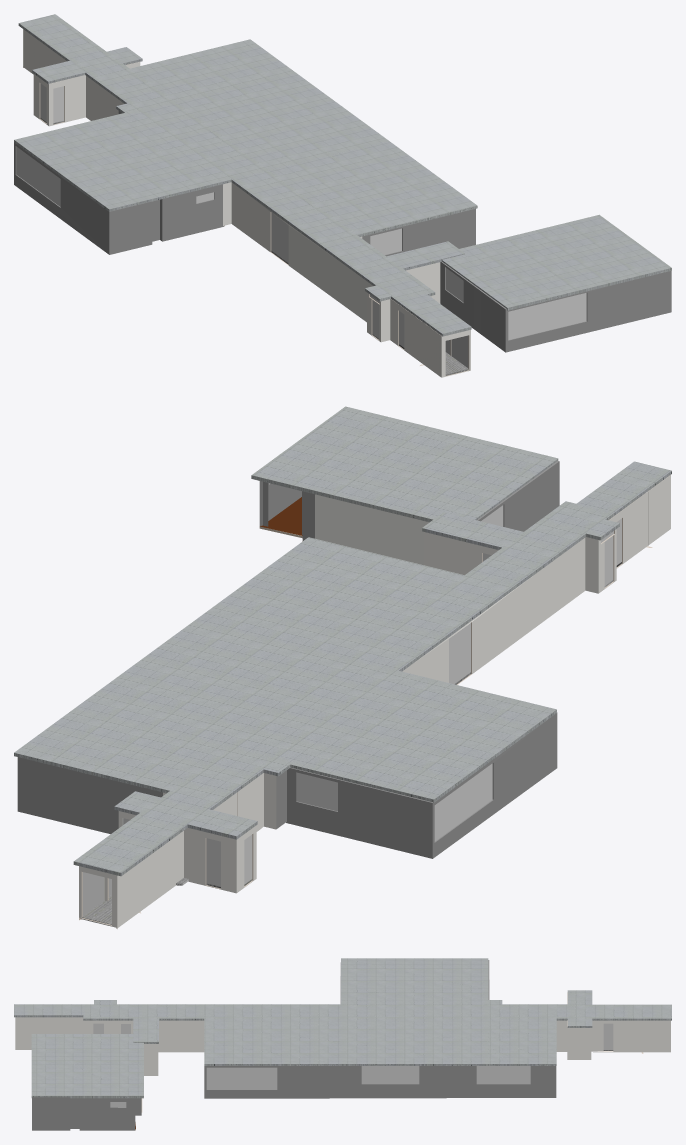
File: Hall.fbx
The picture shows the model from 3 angles, top to bottom: view 1: azimuth 30°, elevation 25°; view 2: azimuth 150°, elevation 25°; view 3: azimuth 270°, elevation 25°; orthographic projection. The views are drawn at different scales.
Parts seen in each view (by area): view 1: 平面, wall_6.003, Plane; view 2: 平面, wall_6.003, Plane; view 3: 平面, wall_6.003, Plane.
Boxes of the visible parts, left/top/right/bottom form: 平面: left=14, top=14, right=477, bottom=336; wall_6.003: left=14, top=29, right=671, bottom=377; Plane: left=442, top=214, right=671, bottom=310; 平面: left=14, top=461, right=671, bottom=876; wall_6.003: left=17, top=461, right=670, bottom=928; Plane: left=251, top=406, right=558, bottom=522; 平面: left=14, top=958, right=671, bottom=1065; wall_6.003: left=15, top=960, right=670, bottom=1130; Plane: left=31, top=1034, right=143, bottom=1098.
Size of the model in its own units: 2350 by 4756 by 281.
Materials: 96 (4 with a texture image).
